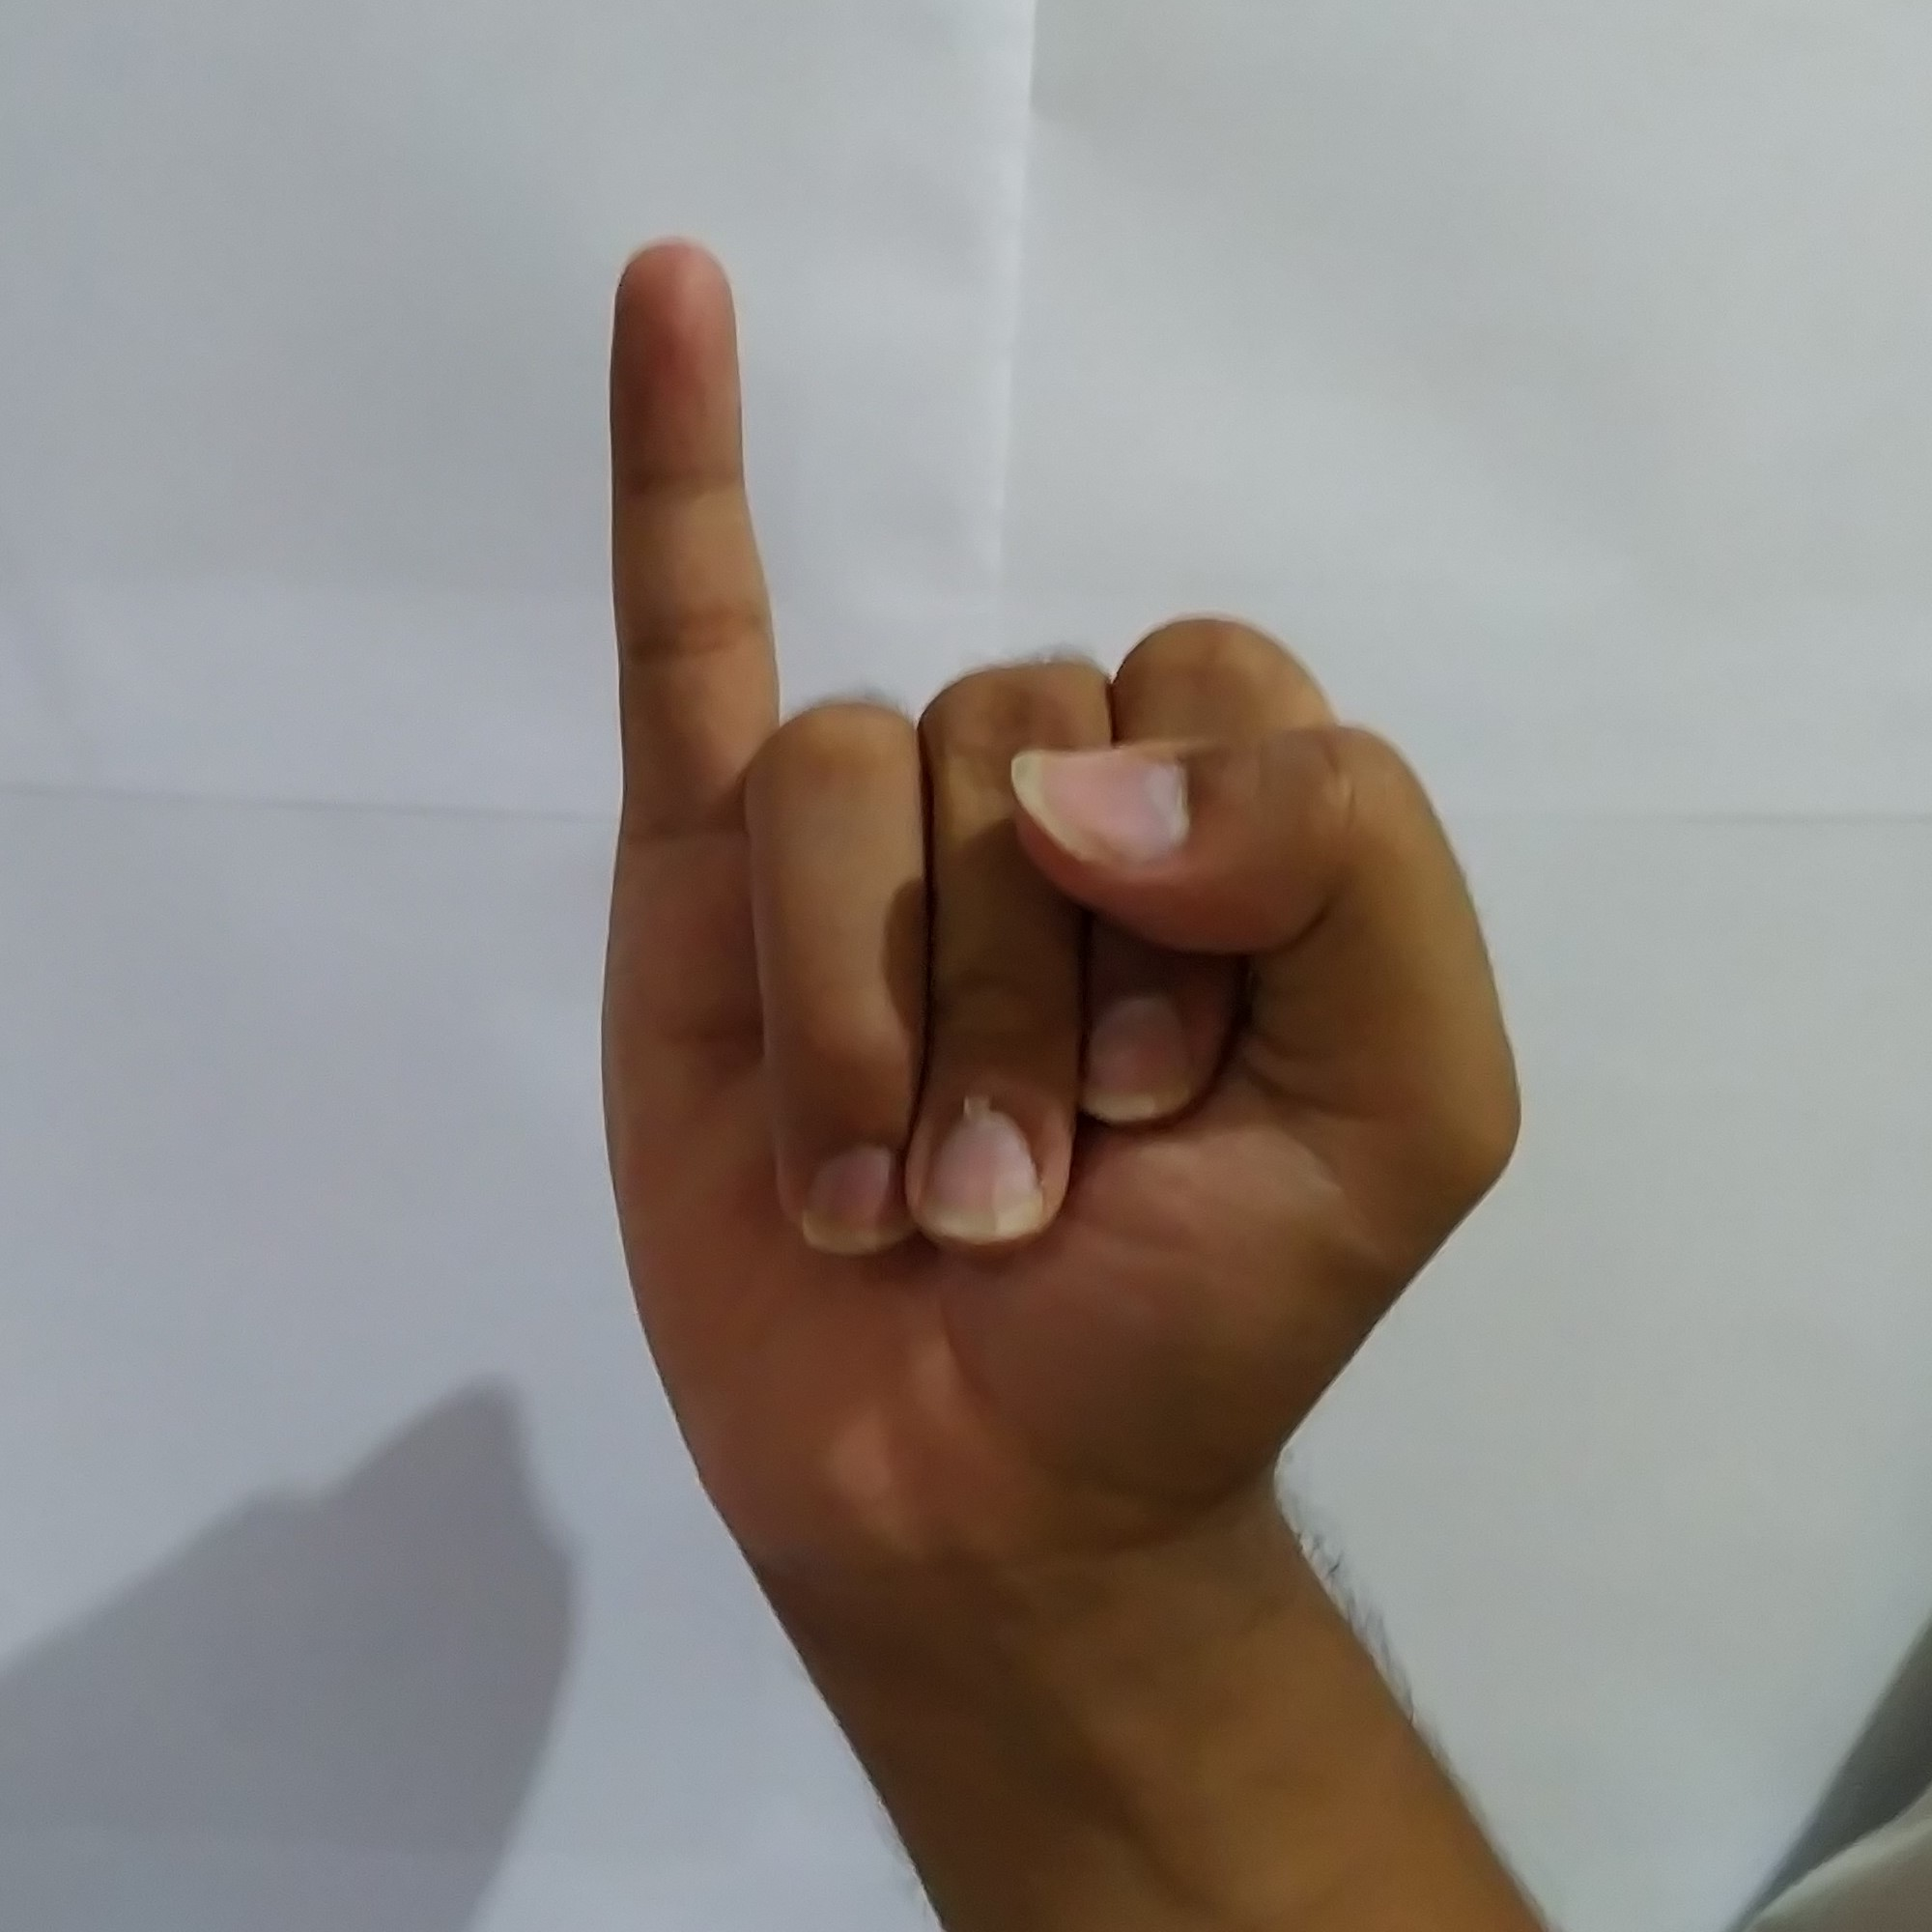I: (566, 209, 1553, 1499)
